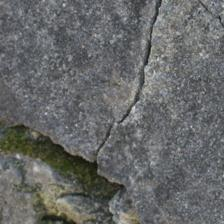Crack: (0, 68, 152, 168), (43, 9, 124, 120)
